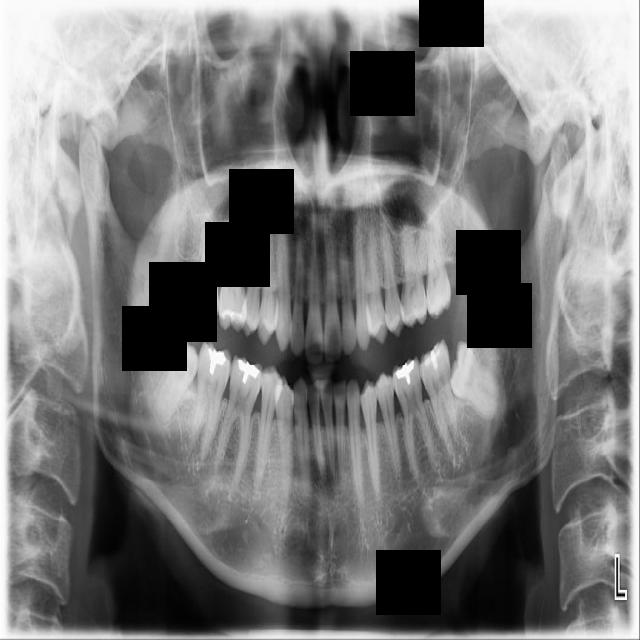52: (410, 340, 461, 389), (192, 338, 237, 390), (222, 354, 270, 401), (386, 356, 431, 402), (191, 272, 221, 323), (218, 286, 247, 330)
73: (618, 606, 627, 616)
BioHorizons Implant: (424, 201, 451, 321)
Biomet 3i Implant: (430, 337, 516, 427)
Blue Sky Bio Implant: (416, 341, 464, 461)
Caries: (191, 216, 226, 320)
Implant: (176, 341, 236, 456)
Keystone Dental Implant: (150, 329, 208, 429)
